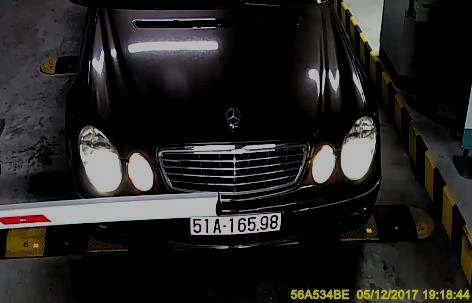plate: (188, 214, 283, 238)
